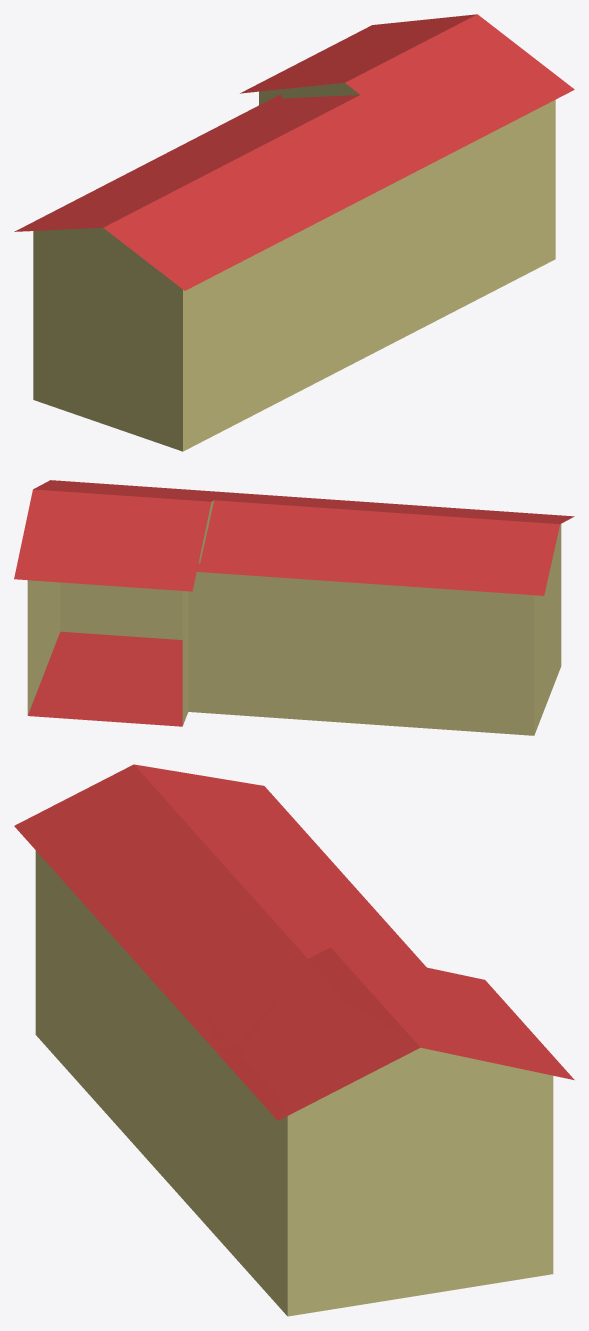
The picture shows the model from 3 angles, top to bottom: view 1: azimuth 30°, elevation 25°; view 2: azimuth 150°, elevation 25°; view 3: azimuth 270°, elevation 25°; orthographic projection. The views are drawn at different scales.
Size of the model in its own units: 23.6 by 16.7 by 8.38.
